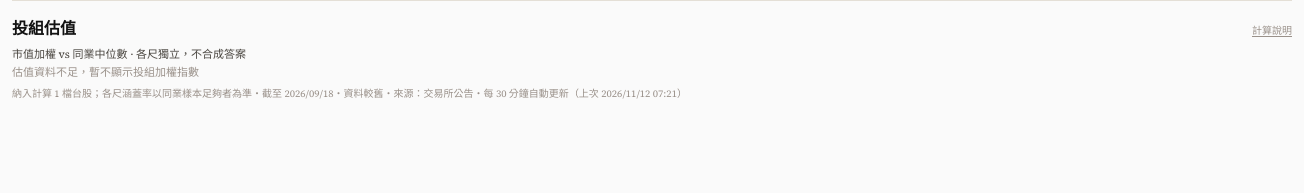
Scenario: PortfolioValuationStrip 計算說明 › aria-expanded 狀態正確切換
The width and height of the screenshot is (1304, 193).
Click the button with test id "portfolio-valuation-explain-toggle" at point(1272, 31), box [1252,24,1292,38]
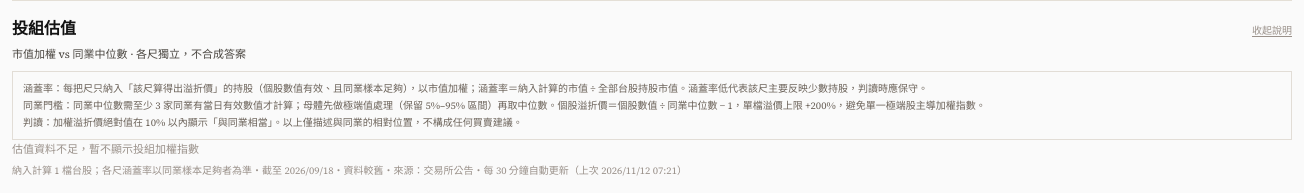
Now the button with test id "portfolio-valuation-explain-toggle" is expanded, box [1252,24,1292,38]
